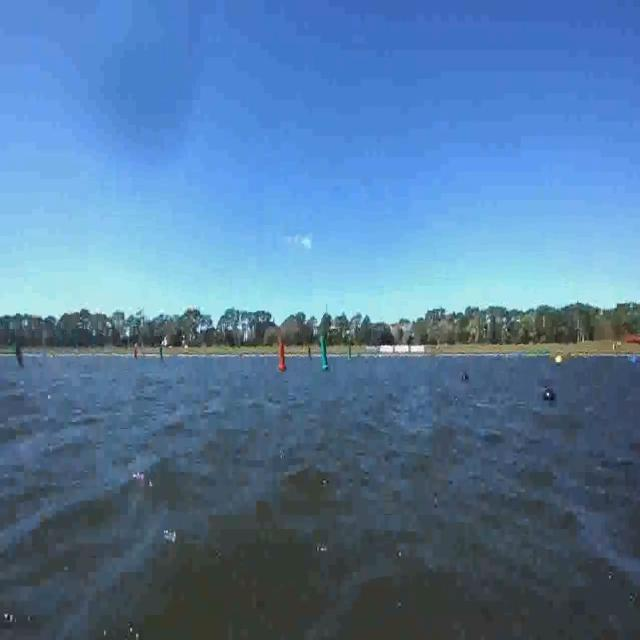black-buoy: (542, 384, 557, 407)
blue-buoy: (631, 356, 639, 365)
green-column-buoy: (12, 332, 26, 368), (322, 337, 332, 370), (160, 345, 166, 362)
red-column-buoy: (278, 341, 288, 370), (135, 344, 140, 360)
